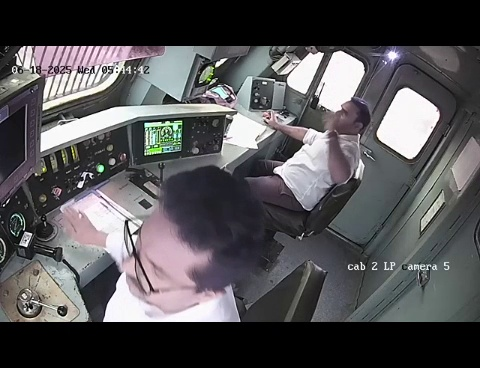brake_released: (1, 254, 109, 323)
horn_inactive: (26, 205, 69, 248)
